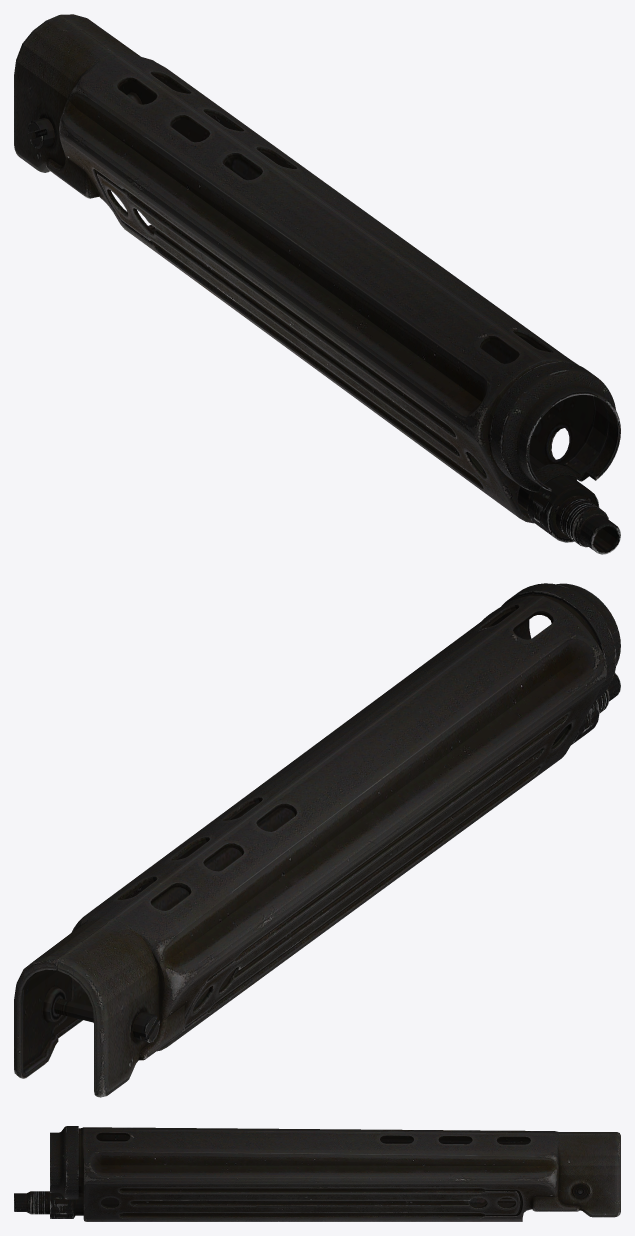
3 renders of one model, top to bottom at view 1: azimuth 30°, elevation 25°; view 2: azimuth 150°, elevation 25°; view 3: azimuth 270°, elevation 25°, orthographic. The views are drawn at different scales.
Parts seen in each view (by area): view 1: TW_5b7bed205acfc400161d08cc_PZ_Import; view 2: TW_5b7bed205acfc400161d08cc_PZ_Import; view 3: TW_5b7bed205acfc400161d08cc_PZ_Import.
Boxes of the visible parts, left/top/right/bottom form: TW_5b7bed205acfc400161d08cc_PZ_Import: left=14, top=14, right=620, bottom=554; TW_5b7bed205acfc400161d08cc_PZ_Import: left=14, top=583, right=620, bottom=1097; TW_5b7bed205acfc400161d08cc_PZ_Import: left=14, top=1126, right=620, bottom=1221.
Size of the model in its own units: 0.0251 by 0.1826 by 0.0302.
1 material, 1 textured.
